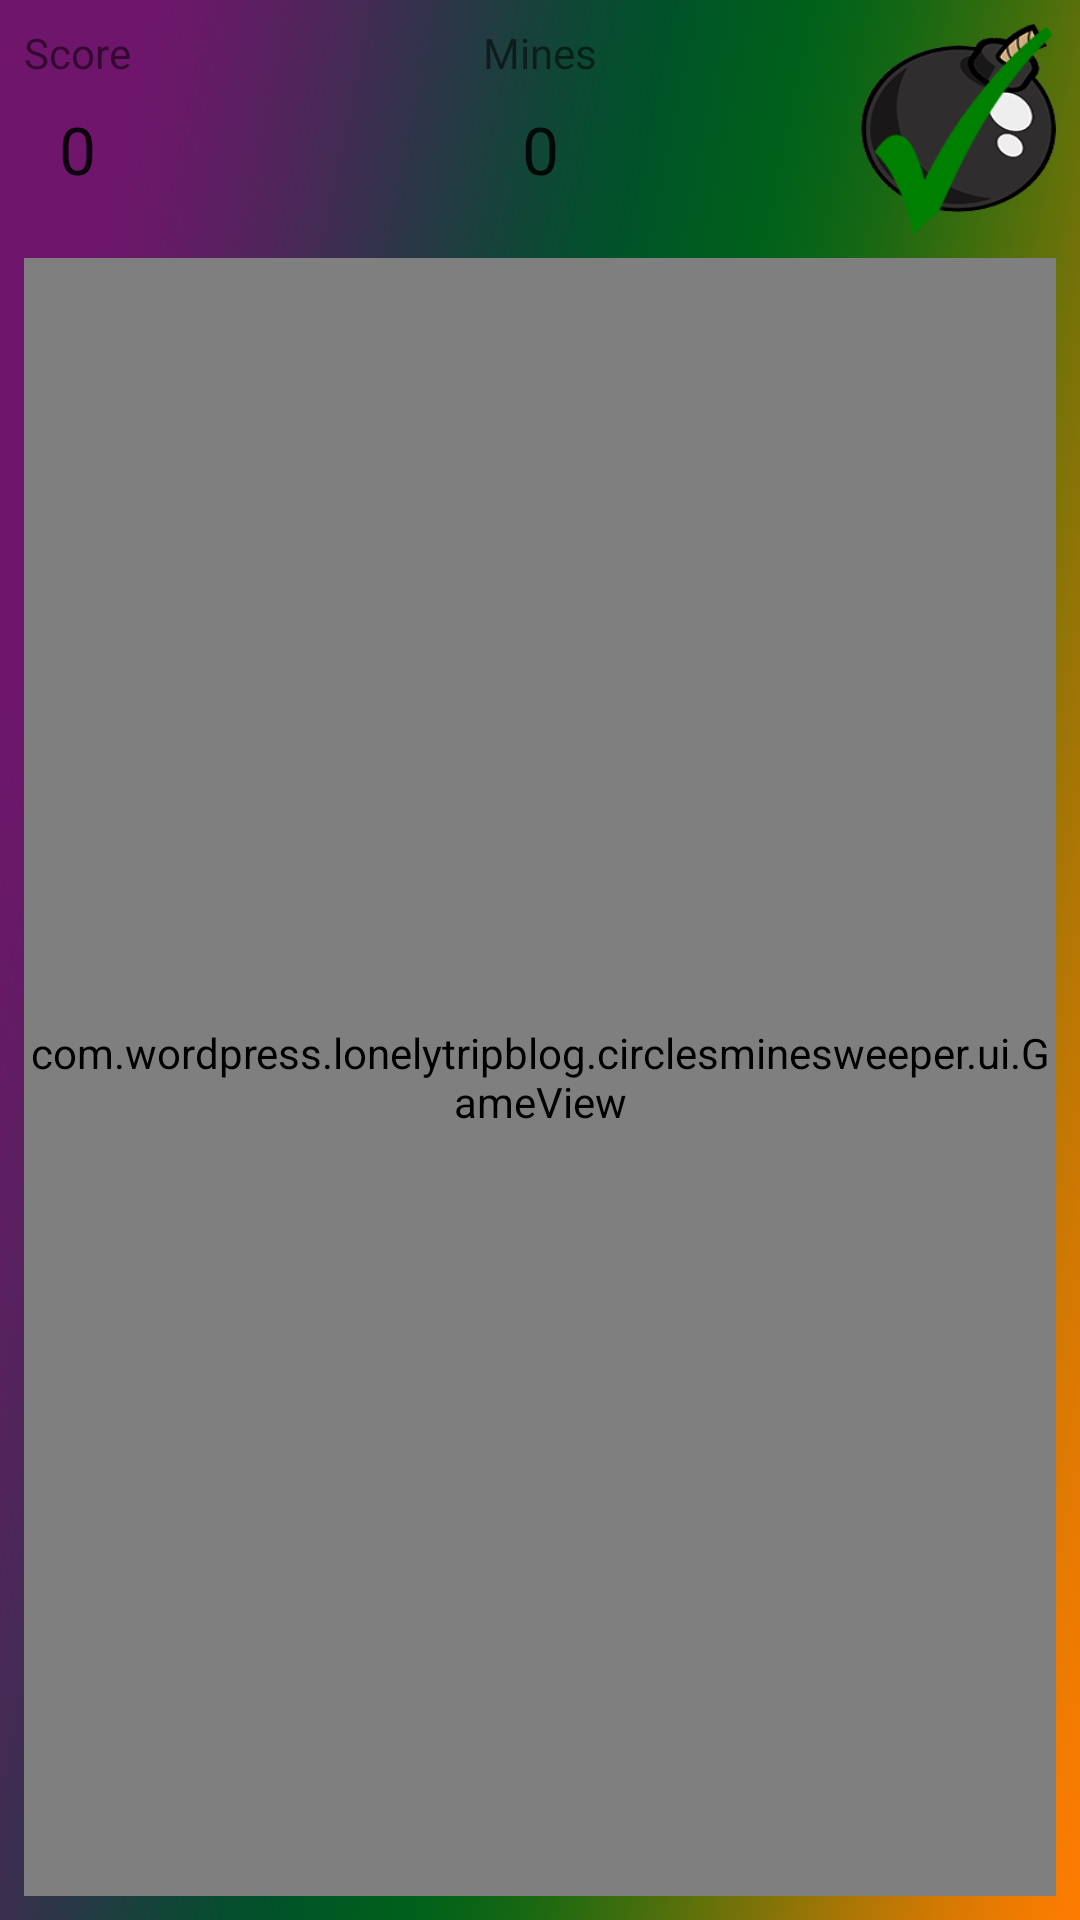

Named icons in this screenshot (1080 × 1920) and their centers, [x,y]:
bomb check: [958,129]
